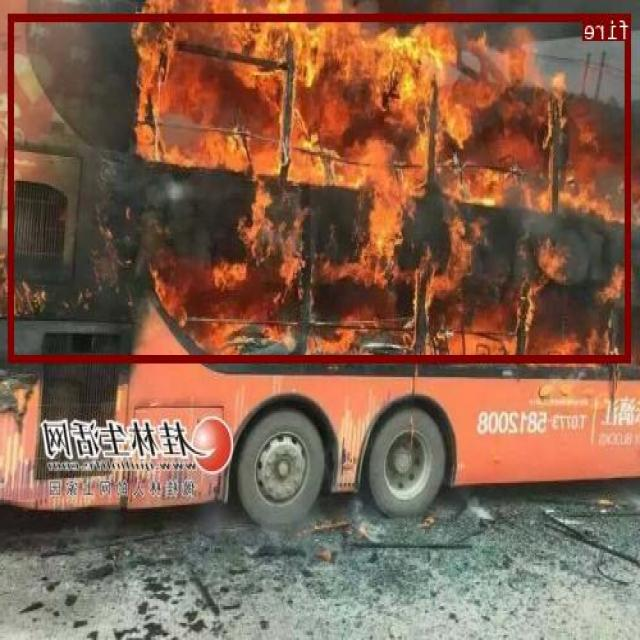fire: (10, 13, 632, 361)
